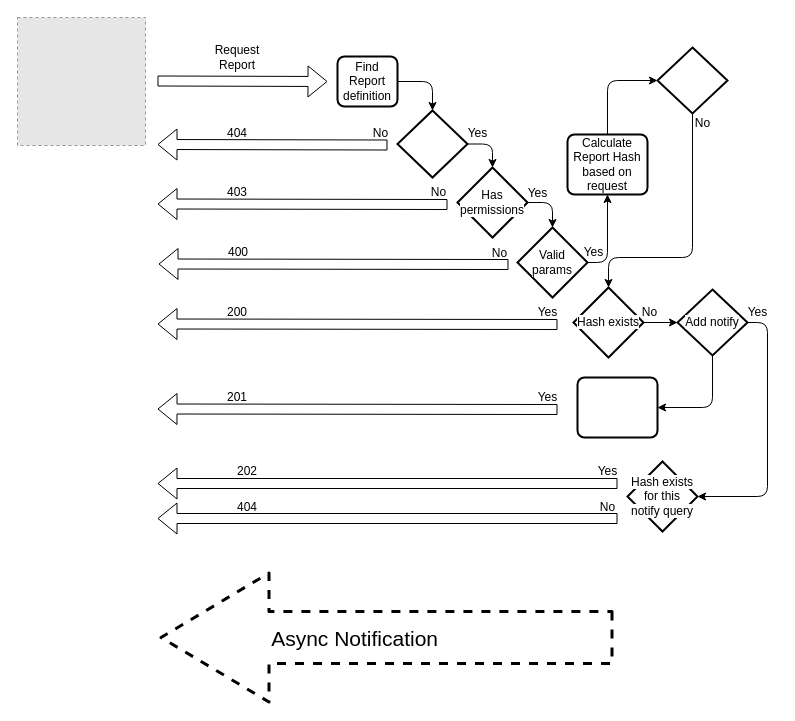
Image size: 795x721. Some labels were removed from this diagram. Grey dashed boxes stand in for pictures. Each missing label, with the centre of its shape:
Force generation: pixel 692 80
Report exists: pixel 432 143
Send Report to Queue: pixel 617 407
